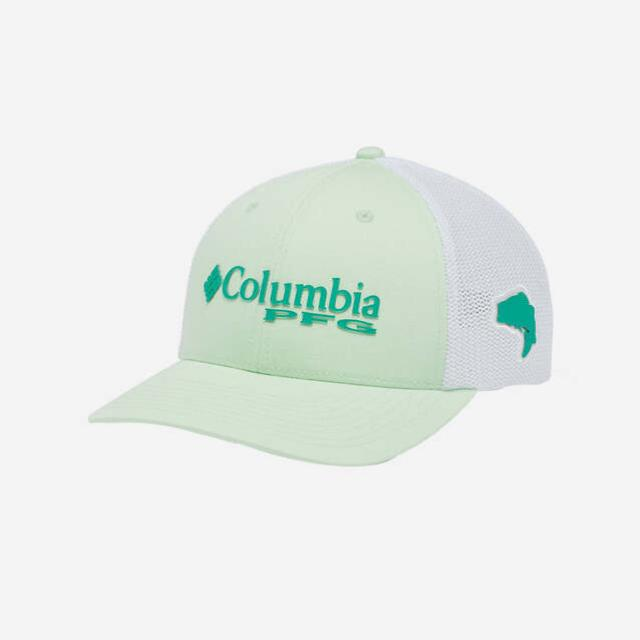Nonhelmet: (86, 142, 557, 470)
